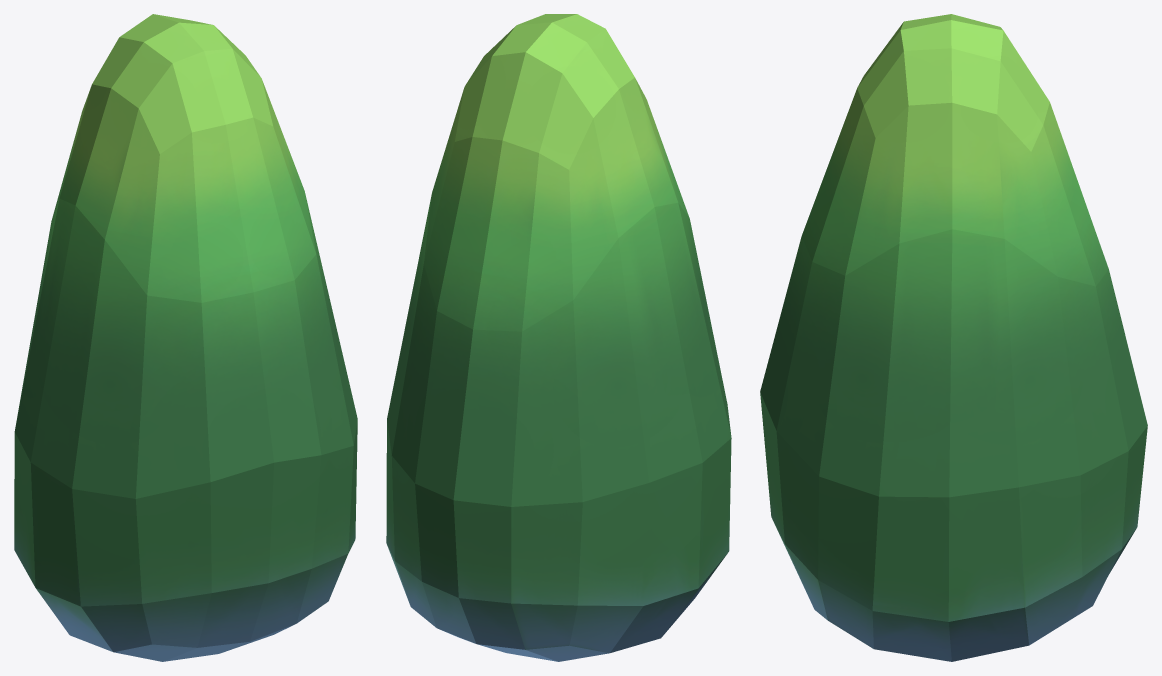
Rendered from SP_VEG_Bush02.fbx.
The picture shows the model from 3 angles, left to right: view 1: azimuth 30°, elevation 25°; view 2: azimuth 150°, elevation 25°; view 3: azimuth 270°, elevation 25°; orthographic projection.
Parts seen in each view (by area): view 1: SM_Bush02; view 2: SM_Bush02; view 3: SM_Bush02.
Boxes of the visible parts, x1=… form: SM_Bush02: x1=14, y1=14, x2=357, y2=661; SM_Bush02: x1=386, y1=14, x2=731, y2=661; SM_Bush02: x1=760, y1=14, x2=1147, y2=661.
Size of the model in its own units: 57.13 by 112 by 64.05.
Materials: 1 (1 with a texture image).
